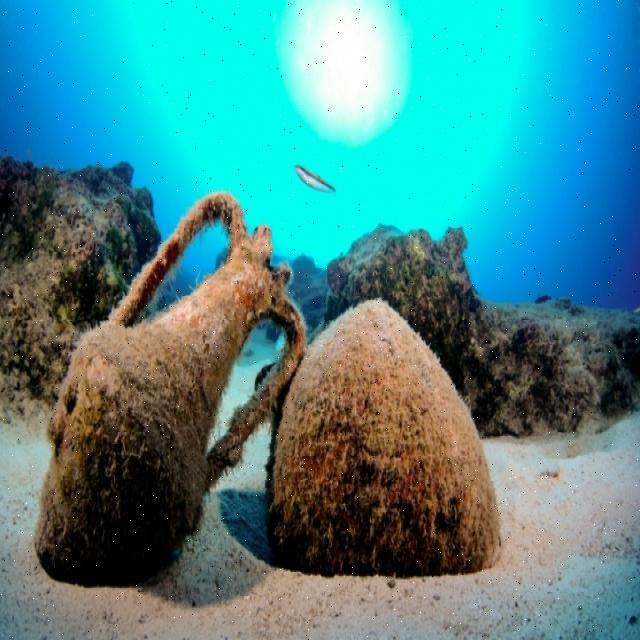fish: (291, 165, 337, 196)
sea-floor: (317, 227, 639, 436), (0, 155, 162, 431)
wrecks-ruins: (40, 191, 307, 591), (268, 299, 506, 581)
